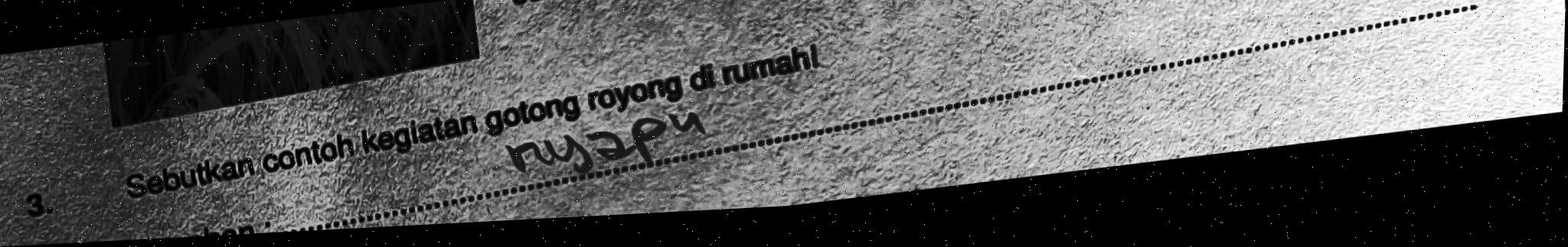jawaban: (497, 97, 713, 185)
